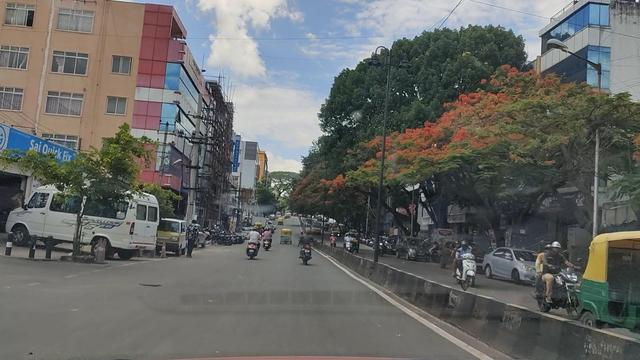LMV: (289, 229, 320, 269), (243, 226, 265, 263)
